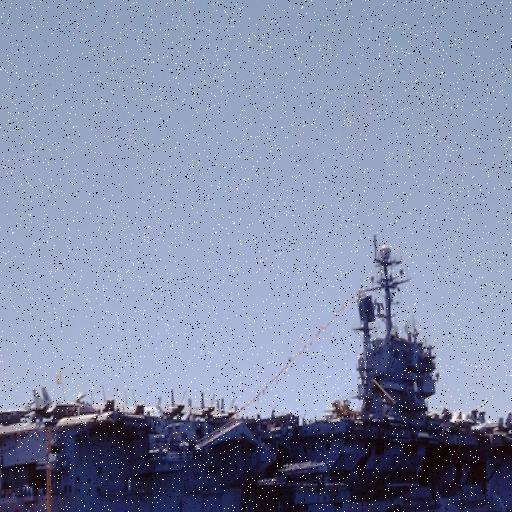Portanaves: (1, 227, 512, 512)
